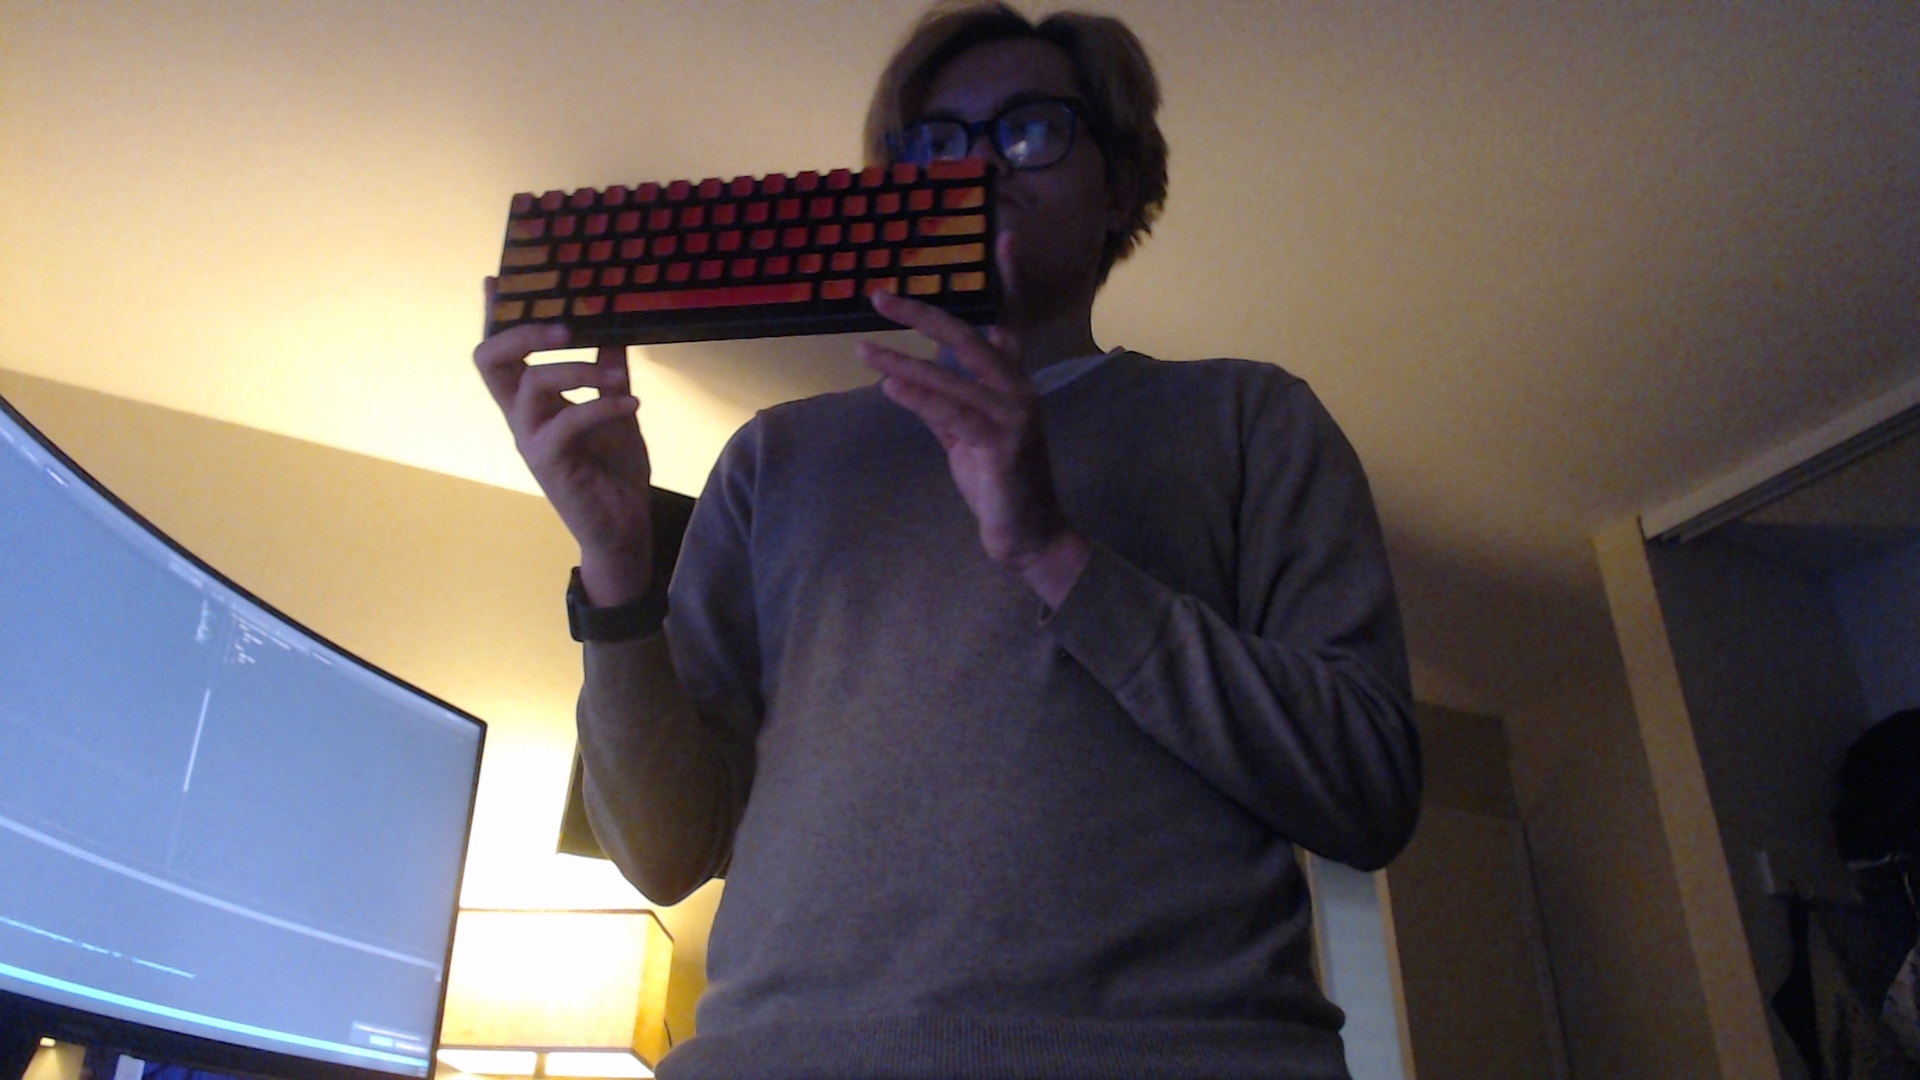keyboard: (477, 156, 1002, 349)
